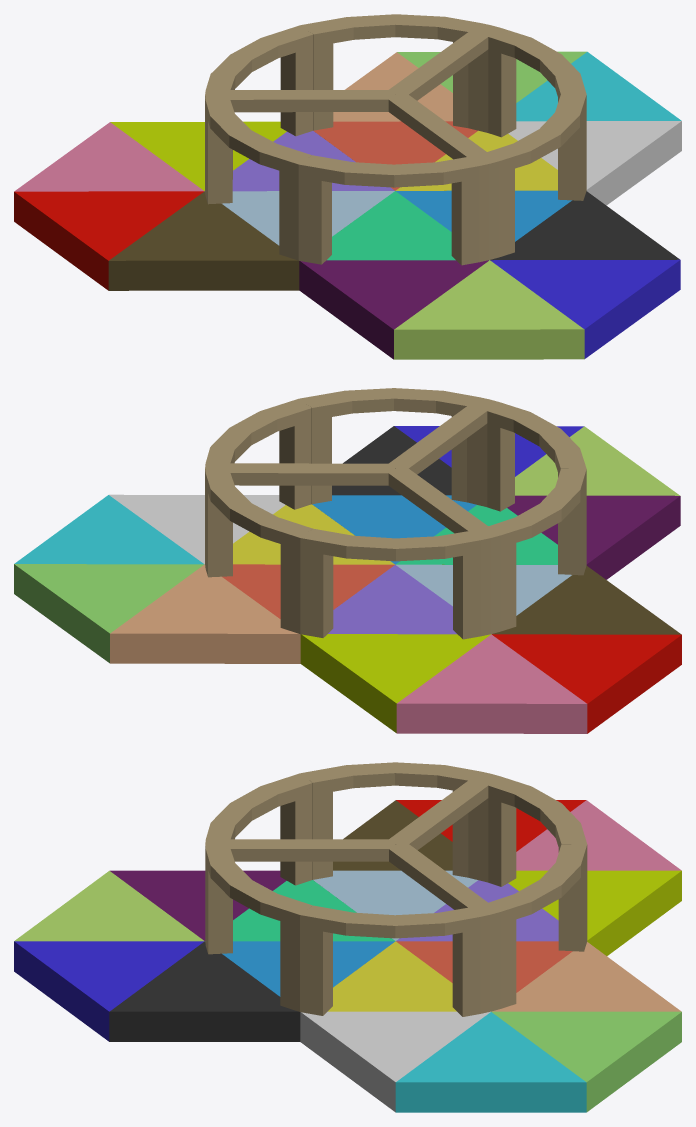
File: tile_temple_3tilesMerged.fbx
3 renders of one model, top to bottom at view 1: azimuth 30°, elevation 25°; view 2: azimuth 150°, elevation 25°; view 3: azimuth 270°, elevation 25°, orthographic.
Parts seen in each view (by area): view 1: temple; view 2: temple; view 3: temple.
Part boxes in pixels (<box>): temple: <box>14,14,681,359</box>; temple: <box>14,388,681,733</box>; temple: <box>14,762,681,1112</box>.
Size of the model in its own units: 4000 by 841 by 4000.
